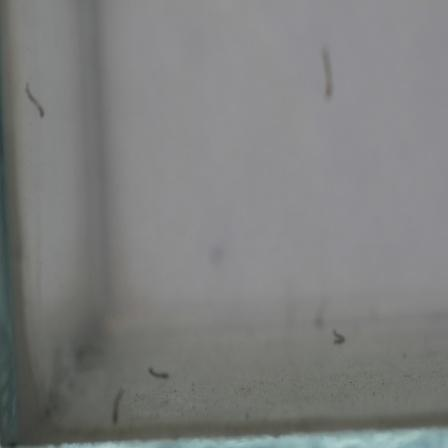Jentik-Nyamuk: (145, 359, 175, 385), (329, 323, 349, 351)
